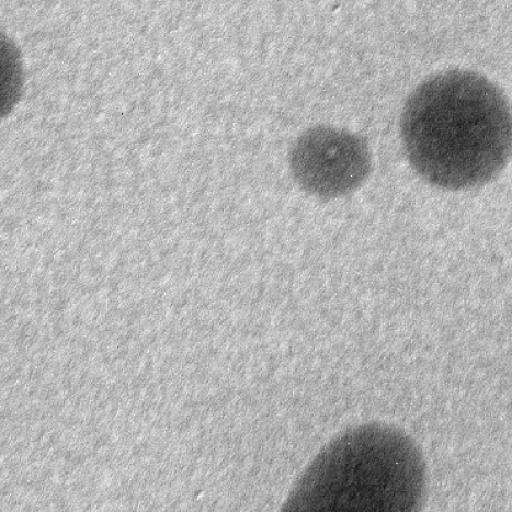Nanoparticles: (400, 67, 510, 173), (279, 447, 425, 512), (407, 98, 503, 192), (326, 420, 428, 494), (287, 119, 375, 200), (0, 32, 27, 122)
